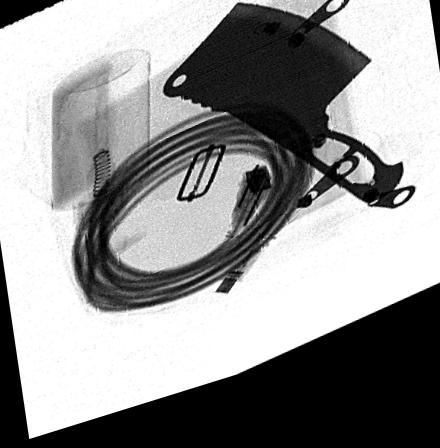Knife: (161, 14, 406, 227)
